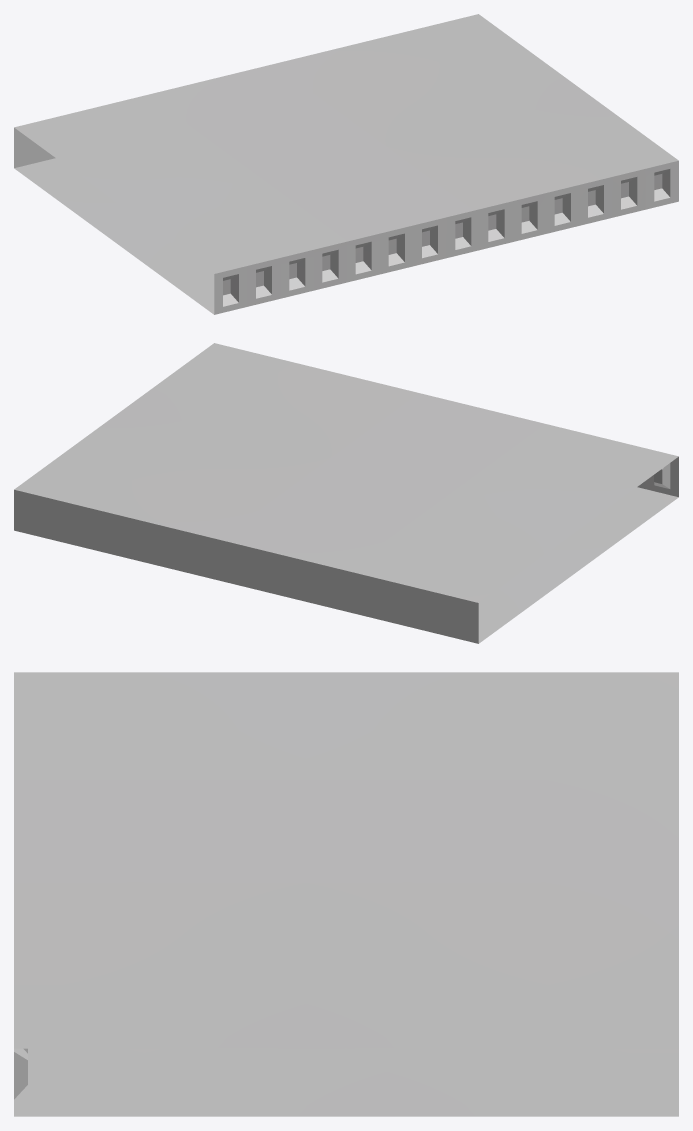
The model's file is Museum_TopFloorDecor.fbx.
3 renders of one model, top to bottom at view 1: azimuth 30°, elevation 25°; view 2: azimuth 150°, elevation 25°; view 3: azimuth 270°, elevation 25°, orthographic. The views are drawn at different scales.
Parts seen in each view (by area): view 1: Cube; view 2: Cube; view 3: Cube.
Boxes of the visible parts, left/top/right/bottom form: Cube: left=14, top=14, right=678, bottom=314; Cube: left=14, top=343, right=678, bottom=643; Cube: left=14, top=672, right=678, bottom=1116.
Bounding box in the file's own units: 9.32 × 0.7846 × 6.96.
